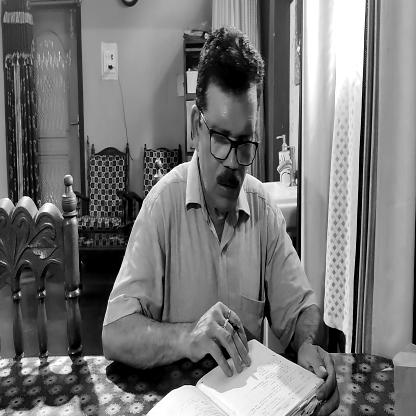Normal: (192, 33, 260, 220)
